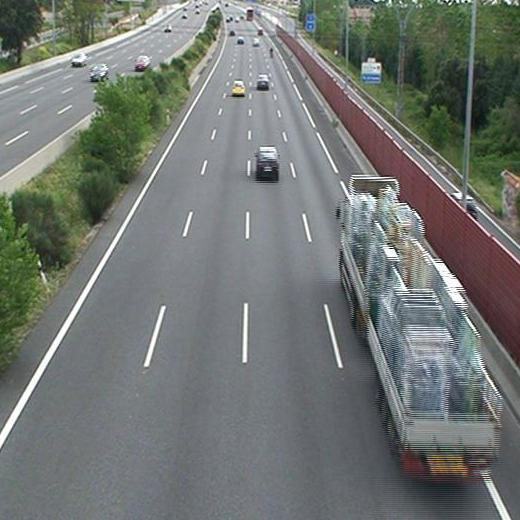car: (256, 148, 280, 176), (256, 73, 269, 87), (232, 81, 245, 94)
motorcycle: (268, 43, 275, 58)
truck: (339, 175, 499, 473)
